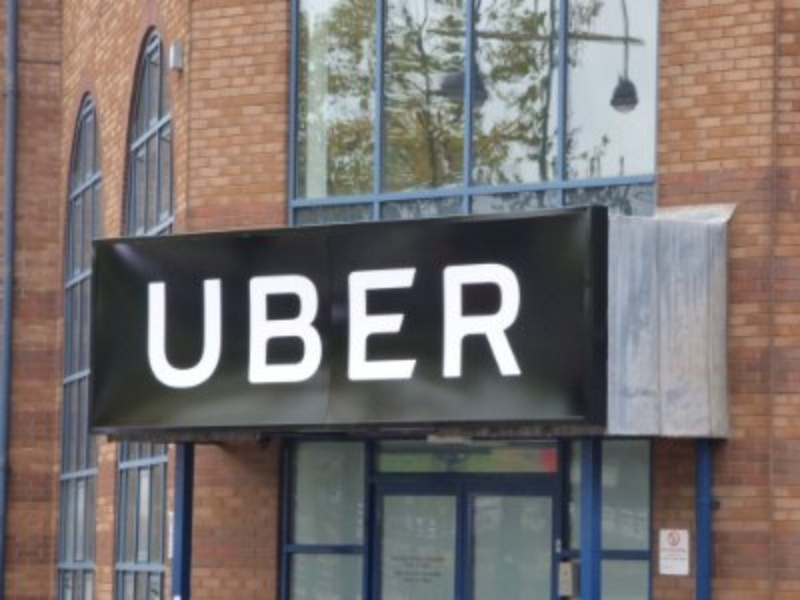text: (161, 259, 176, 393), (177, 259, 192, 393), (193, 259, 208, 393), (209, 259, 224, 393), (225, 259, 240, 393), (241, 259, 256, 393), (257, 259, 272, 393), (273, 259, 288, 393), (289, 259, 304, 393), (305, 259, 320, 393), (321, 259, 336, 393), (337, 259, 352, 393), (353, 259, 368, 393), (369, 259, 384, 393), (385, 259, 400, 393), (401, 259, 416, 393), (417, 259, 432, 393), (433, 259, 448, 393), (449, 259, 464, 393), (465, 259, 480, 393), (481, 259, 496, 393), (497, 259, 512, 393), (147, 259, 160, 393), (513, 259, 525, 393), (417, 561, 433, 571), (401, 569, 416, 579), (417, 569, 432, 579), (402, 561, 416, 571), (433, 569, 447, 579), (401, 555, 416, 563), (417, 555, 432, 563), (401, 579, 416, 587), (417, 579, 432, 587), (433, 555, 447, 563), (389, 555, 400, 563), (393, 569, 400, 579), (433, 579, 437, 587)
